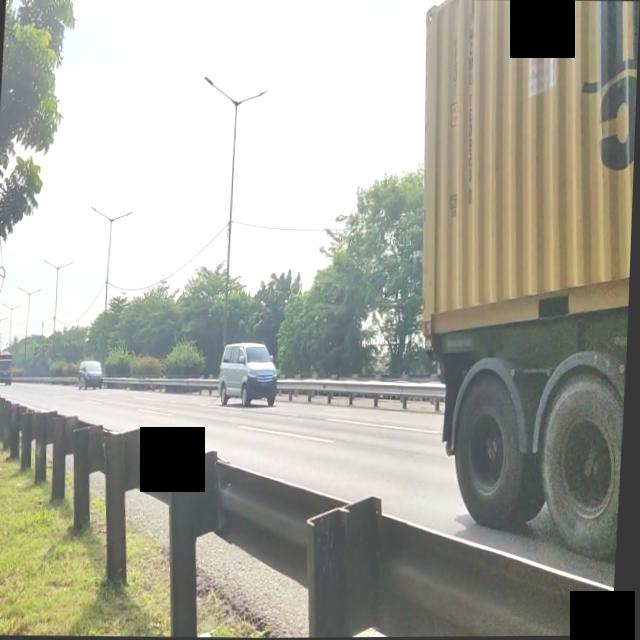Golongan I: (218, 334, 286, 414)
